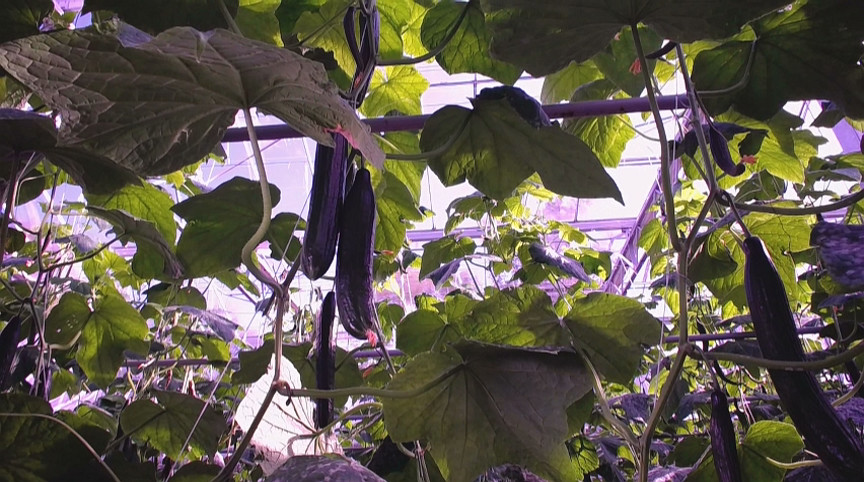cucumber: (742, 237, 862, 478), (302, 133, 349, 279), (338, 167, 377, 340), (708, 392, 745, 482), (318, 291, 341, 427), (710, 127, 744, 176)
